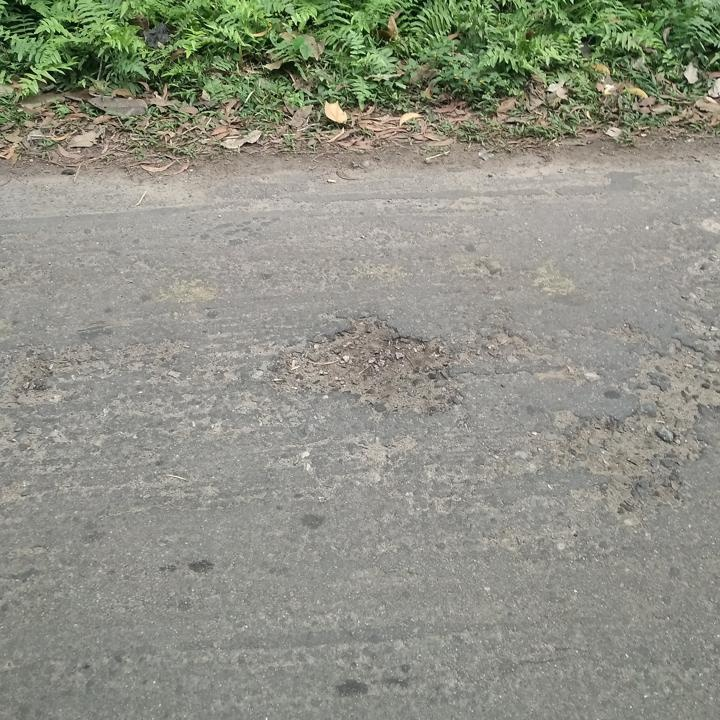pothole: (266, 313, 459, 416), (557, 411, 709, 491), (642, 342, 719, 408)
